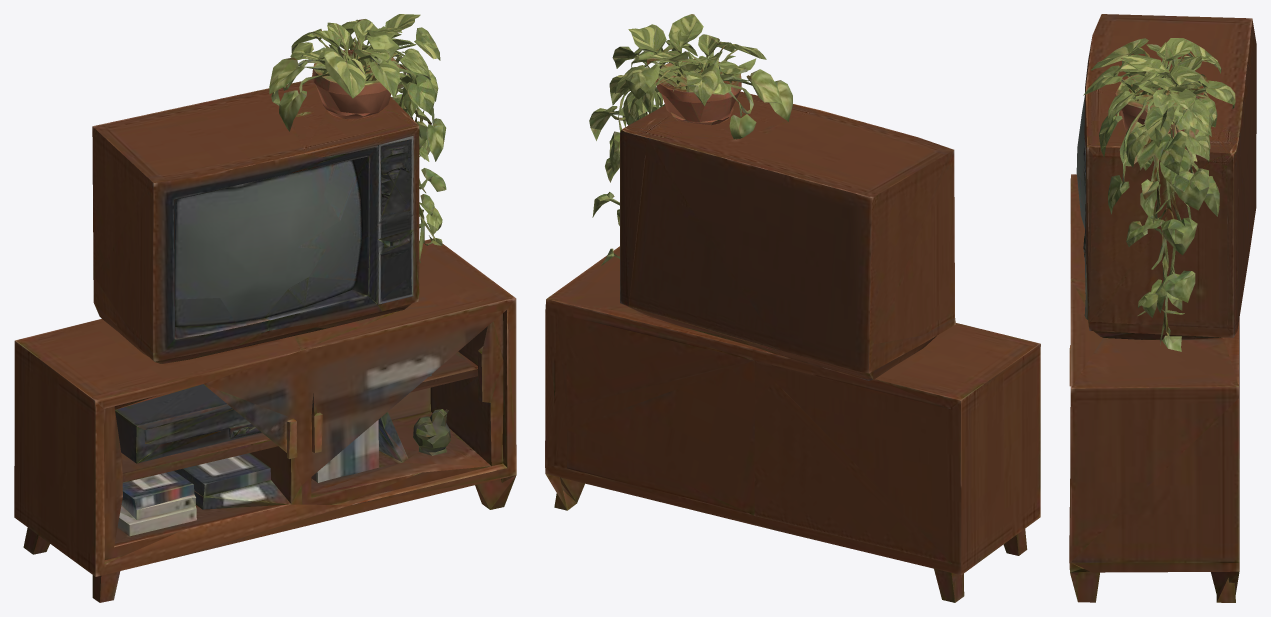
File: tvCabinet.glb
3 views of the same model, side by side, from view 1: azimuth 30°, elevation 25°; view 2: azimuth 150°, elevation 25°; view 3: azimuth 270°, elevation 25° (orthographic). The views are drawn at different scales.
Bounding box in the file's own units: 1.74 × 1.9 × 0.6438.
Materials: 1 (1 with a texture image).
